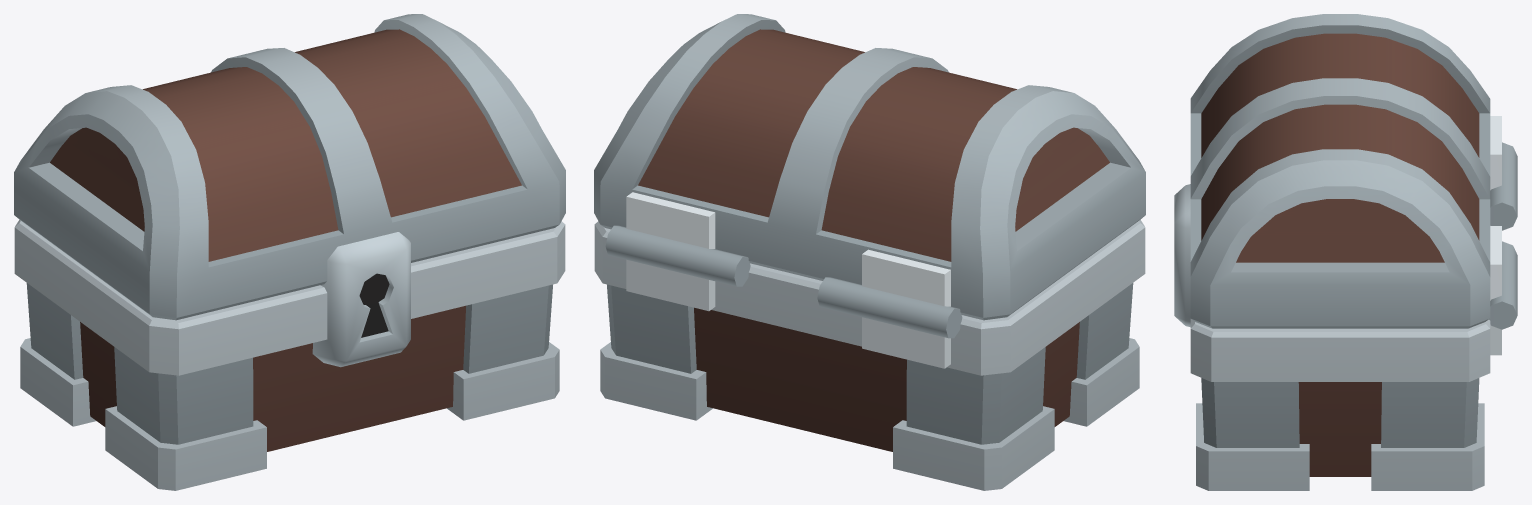
Rendered from chest_002.glb.
3 renders of one model, left to right at view 1: azimuth 30°, elevation 25°; view 2: azimuth 150°, elevation 25°; view 3: azimuth 270°, elevation 25°, orthographic. The views are drawn at different scales.
Parts seen in each view (by area): view 1: chest_lid_002, chest_002; view 2: chest_lid_002, chest_002; view 3: chest_lid_002, chest_002.
Part boxes in pixels (box(x1,y1,x2,y2)): chest_lid_002: box(14, 14, 565, 320); chest_002: box(14, 220, 565, 490); chest_lid_002: box(594, 14, 1145, 320); chest_002: box(594, 220, 1145, 490); chest_lid_002: box(1190, 14, 1501, 328); chest_002: box(1174, 142, 1517, 490).
Size of the model in its own units: 1.74 by 1.29 by 1.3.
Materials: 3 (3 with a texture image).
